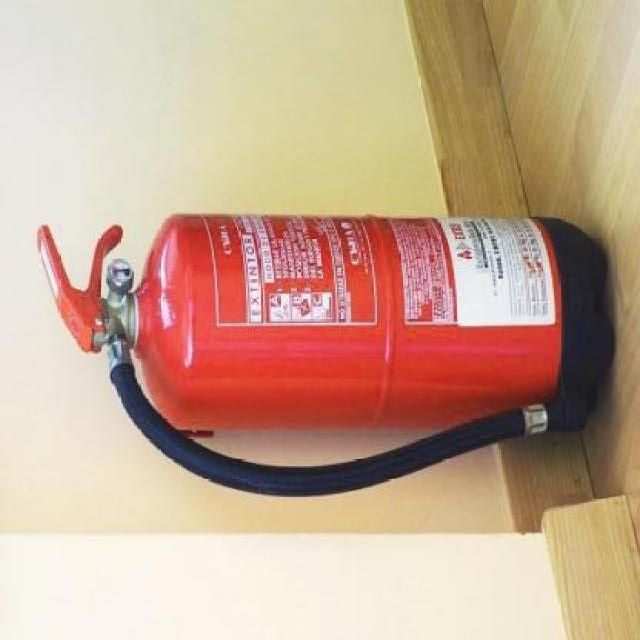fire extinguisher: (37, 214, 615, 498)
